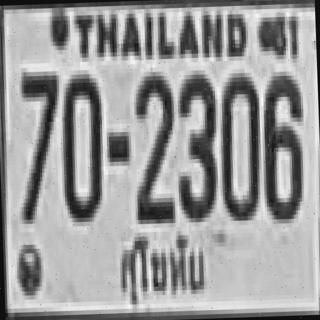N00: (216, 68, 261, 217), (58, 70, 103, 218)
N02: (133, 69, 175, 218)
N03: (172, 70, 217, 218)
N06: (260, 71, 302, 220)
N07: (16, 67, 61, 220)
P65: (113, 225, 212, 319)
